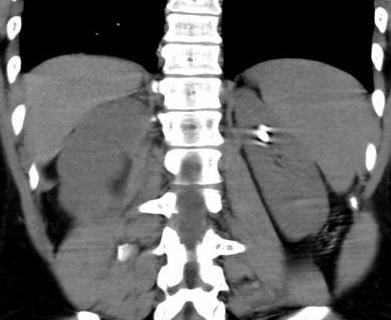Tas_Var: (255, 128, 270, 143), (258, 122, 270, 130)
